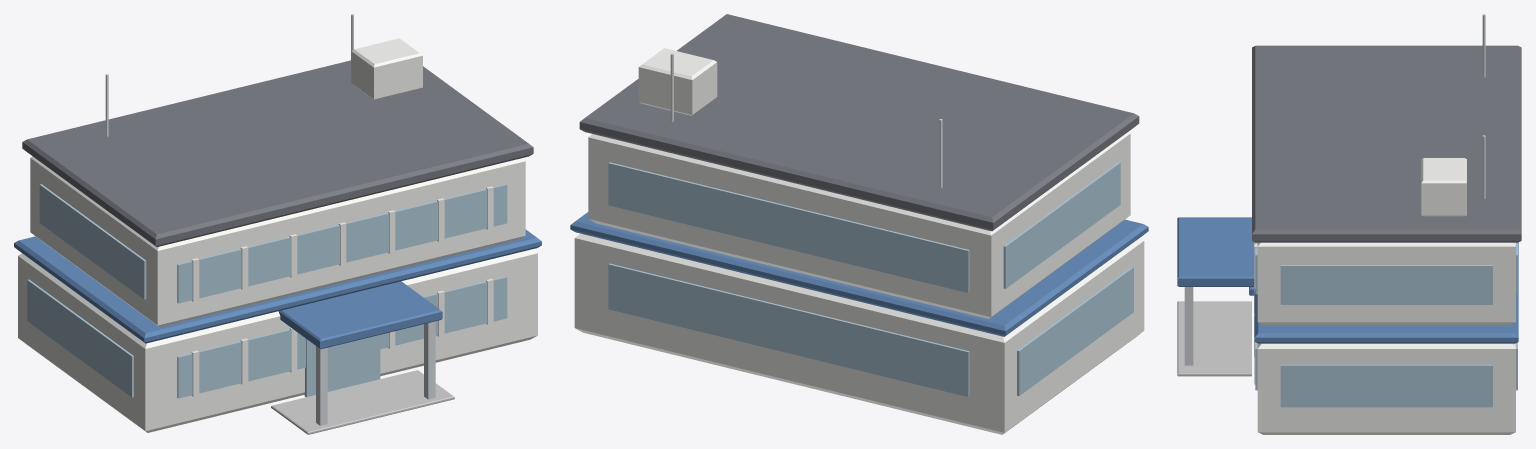
The model's file is crew_building.glb.
The picture shows the model from 3 angles, left to right: view 1: azimuth 30°, elevation 25°; view 2: azimuth 150°, elevation 25°; view 3: azimuth 270°, elevation 25°; orthographic projection. The views are drawn at different scales.
Parts seen in each view (by area): view 1: crew-building; view 2: crew-building; view 3: crew-building.
Part boxes in pixels (x1,y1,x2,y2): crew-building: [14, 14, 541, 434]; crew-building: [570, 14, 1148, 434]; crew-building: [1177, 14, 1521, 434].
Size of the model in its own units: 16.2 by 10.2 by 12.
Materials: 1 (1 with a texture image).
